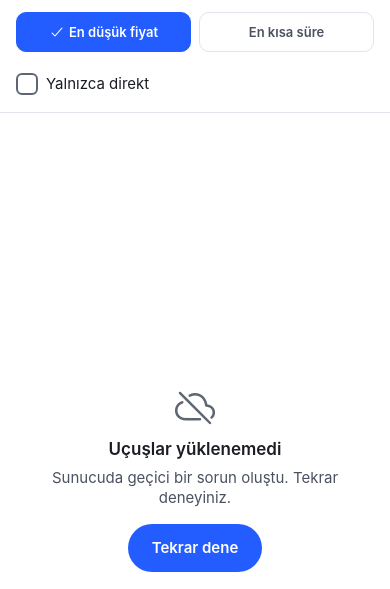
Test: FlightsScreen › shows the list after the user retries a failed request
Expected: the text "Uçuşlar yüklenemedi" is shown, [109,438,282,460]
Click the button "Tekrar dene". click: (195, 548)
box: [128,524,262,572]
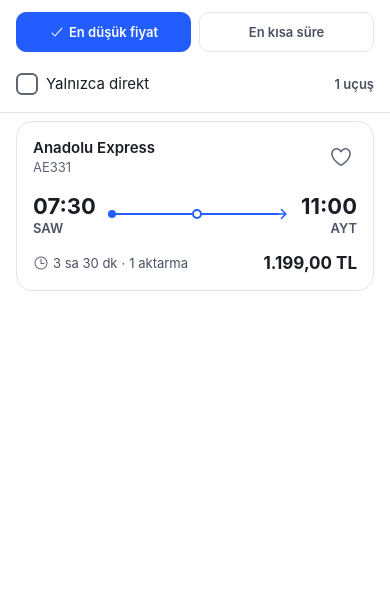
Expected: the text "AE331" is shown, [33,159,71,175]
Expected: the text "1 uçuş" is shown, [335,76,374,92]
Expected: the text "Uçuşlar yüklenemedi" is gone
